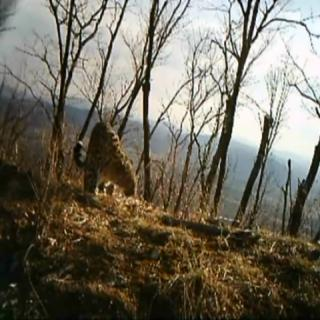Leopard: (68, 104, 177, 219)
